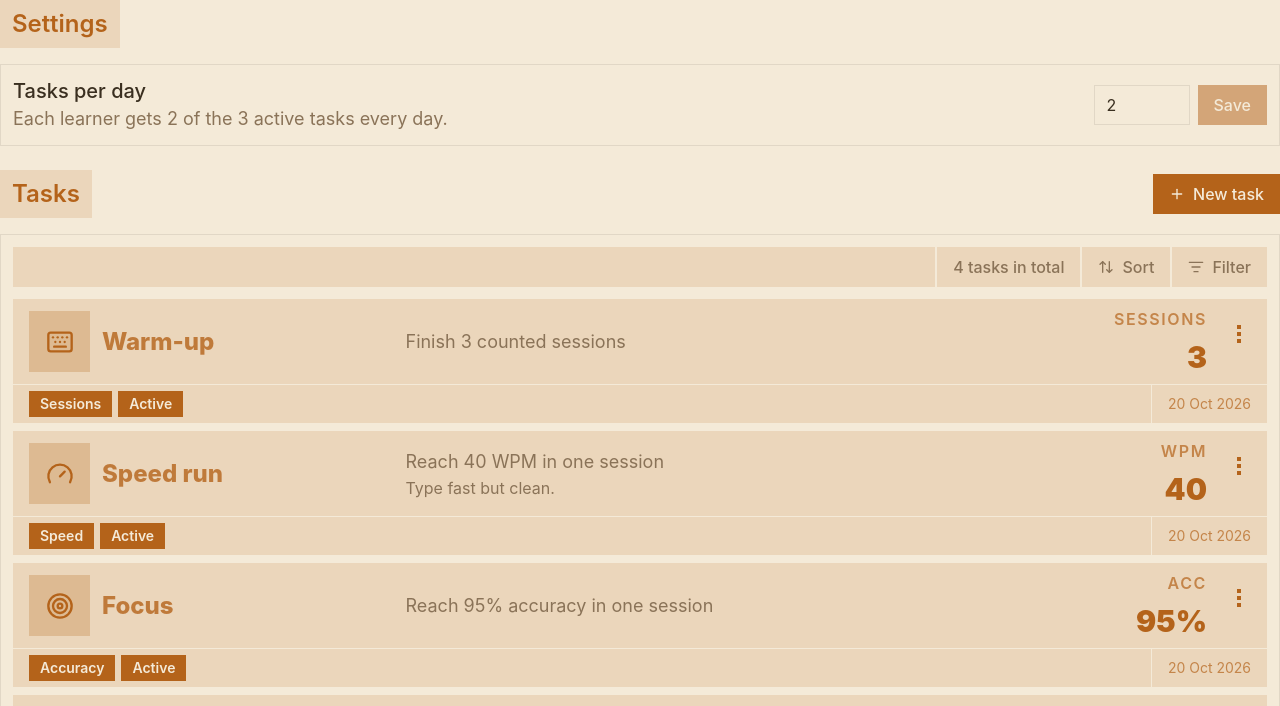
Test: AdminDailyTasksPage › refuses a number of tasks per day outside 1 to 10, and keeps the hint of the saved one
The width and height of the screenshot is (1280, 706).
Replace the text in the number field labelled "Tasks per day" with "11" at coordinates (1142, 105), box [1094, 85, 1190, 125]
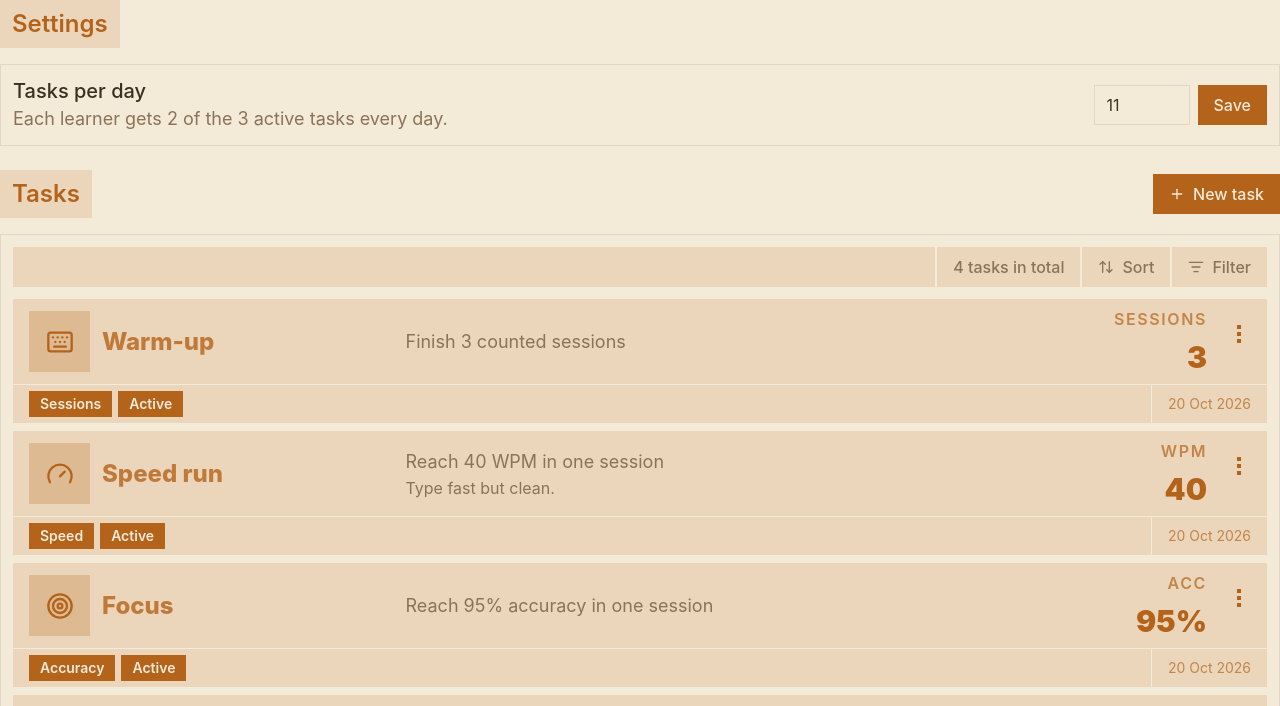
Click the button "Save" at coordinates (1232, 105), box [1198, 85, 1267, 125]
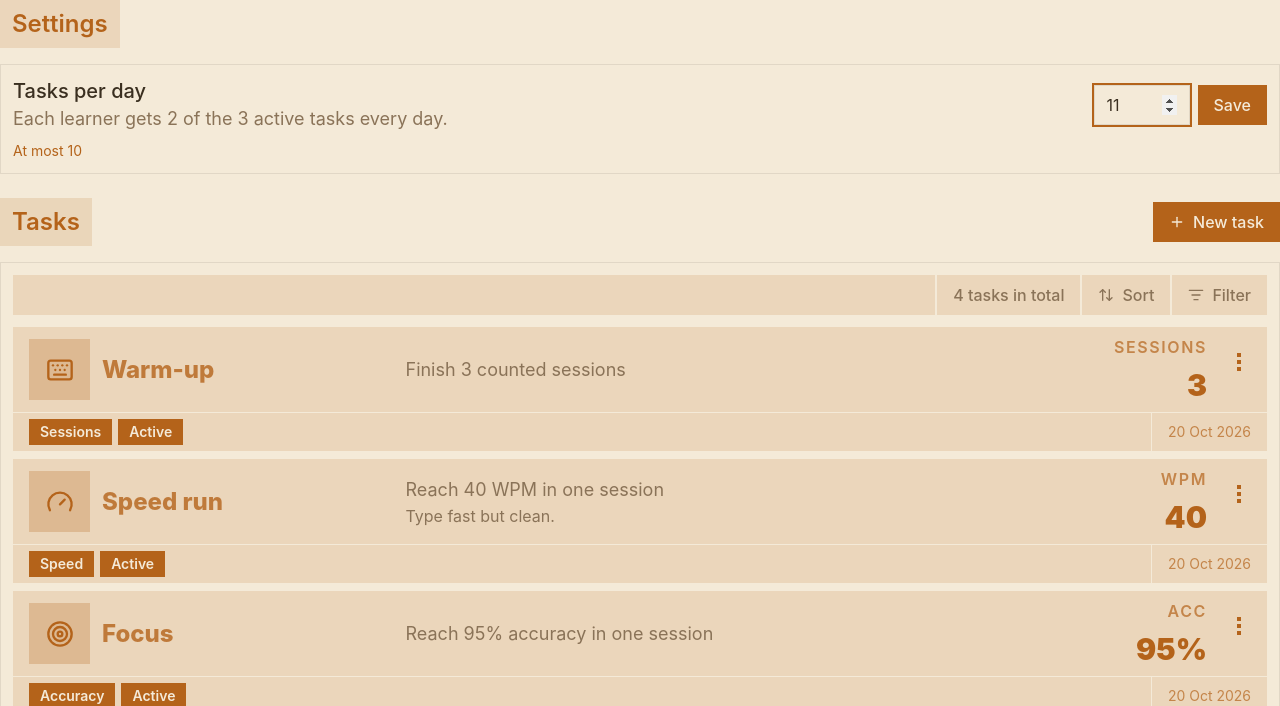
Expected: the text "At most 10" is shown, [13, 142, 82, 159]
Replace the text in the number field labelled "Tasks per day" with "0" at coordinates (1142, 105), box [1094, 85, 1190, 125]
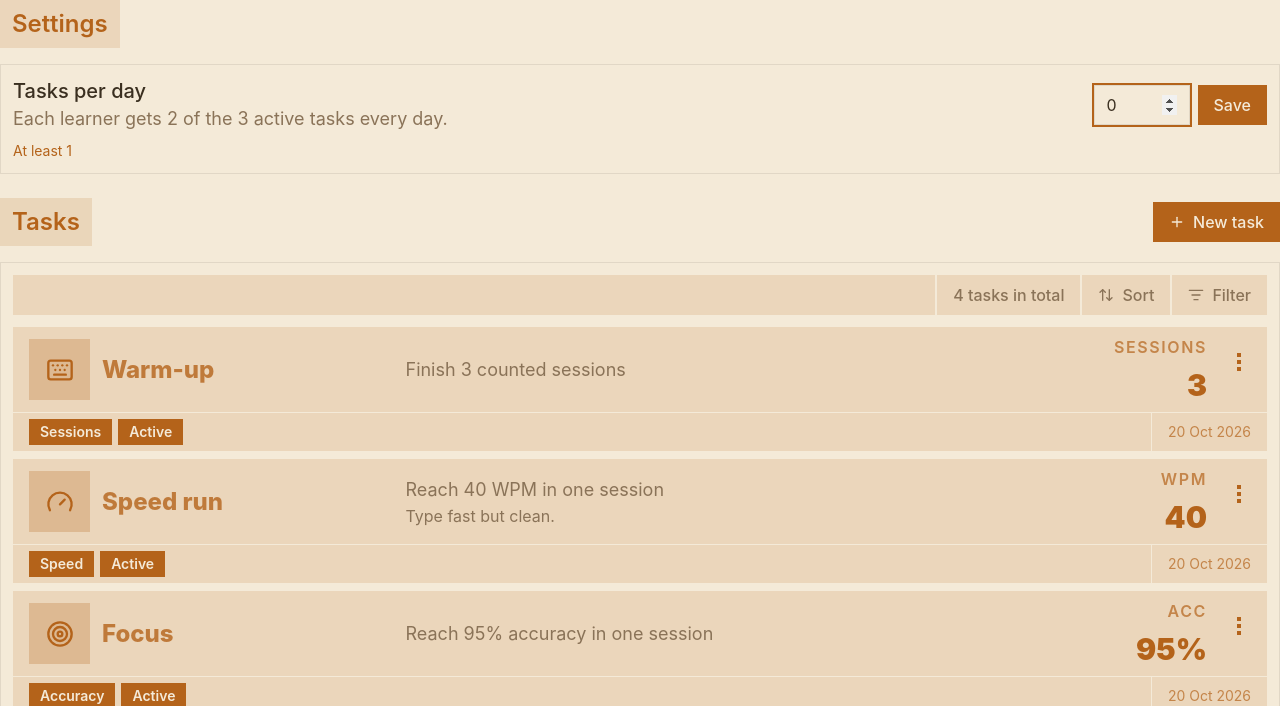
Expected: the text "Each learner gets 2 of the 3 active tasks every day." is shown, [13, 105, 448, 133]
Expected: the text "At least 1" is shown, [13, 142, 72, 159]
